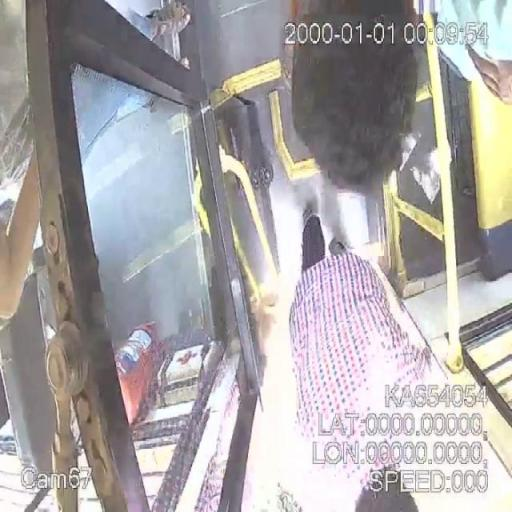persona: (287, 209, 442, 509), (283, 0, 427, 199)
